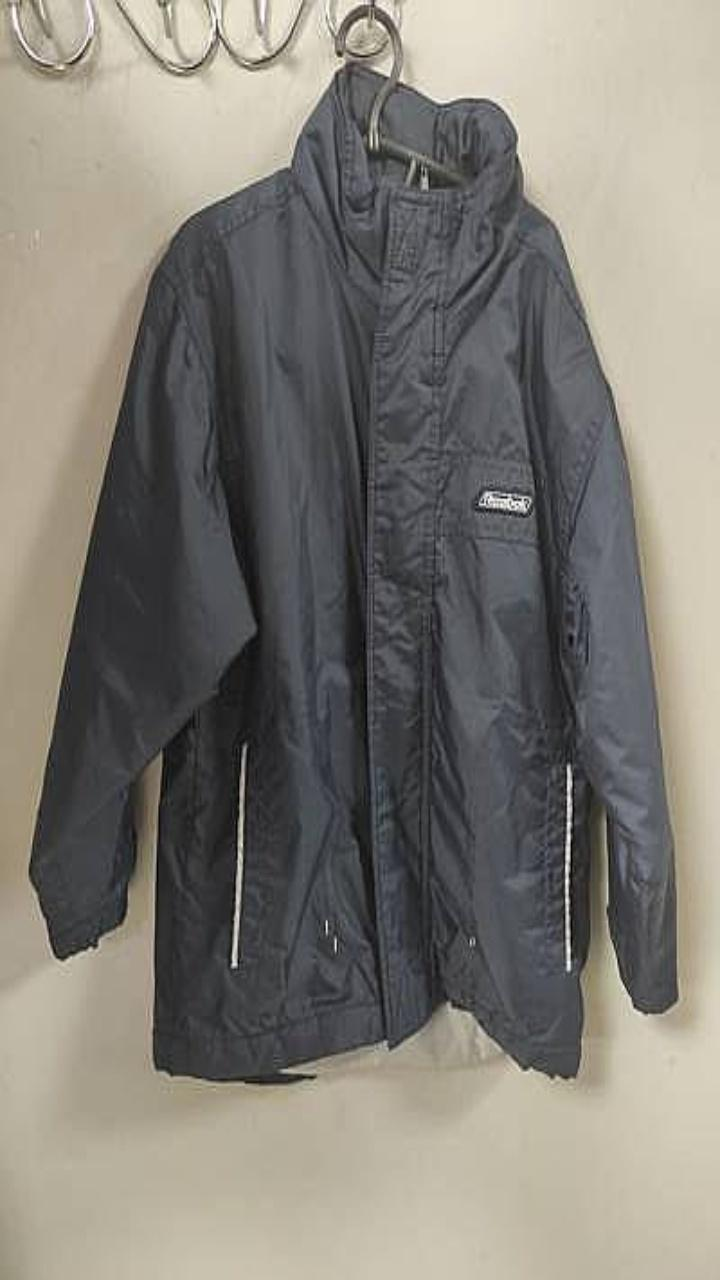Sports_Jacket: (30, 62, 677, 1081)
